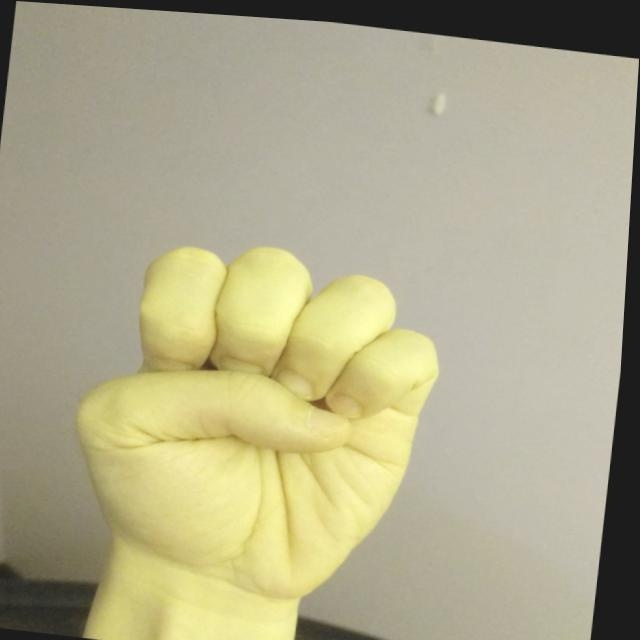E: (56, 217, 466, 616)
